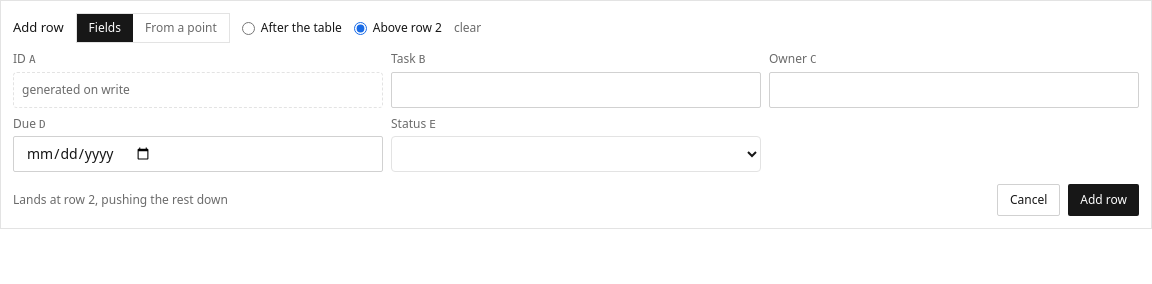
what the API refuses › shows the header-row message beside the radio instead of only in a toast
The width and height of the screenshot is (1152, 284).
In the field labelled "Task B": (576, 90) [391, 72, 761, 108], type "Runbook for the upload flag"
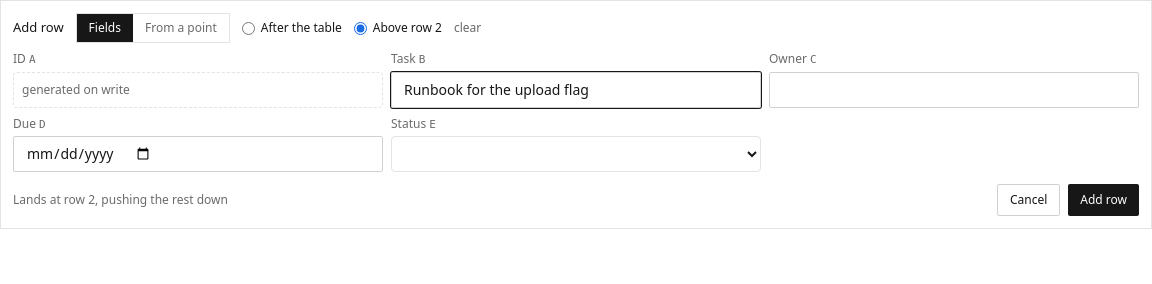
Click the button with test id "add-row-submit": (1104, 200) [1068, 184, 1139, 216]
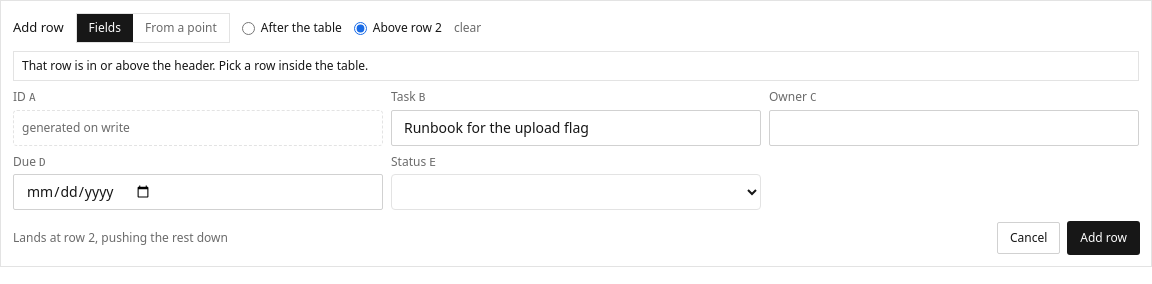
Now the text with test id "add-row-refused" reads "That row is in or above the header. Pick a row inside the table.", box [22, 57, 368, 74]
